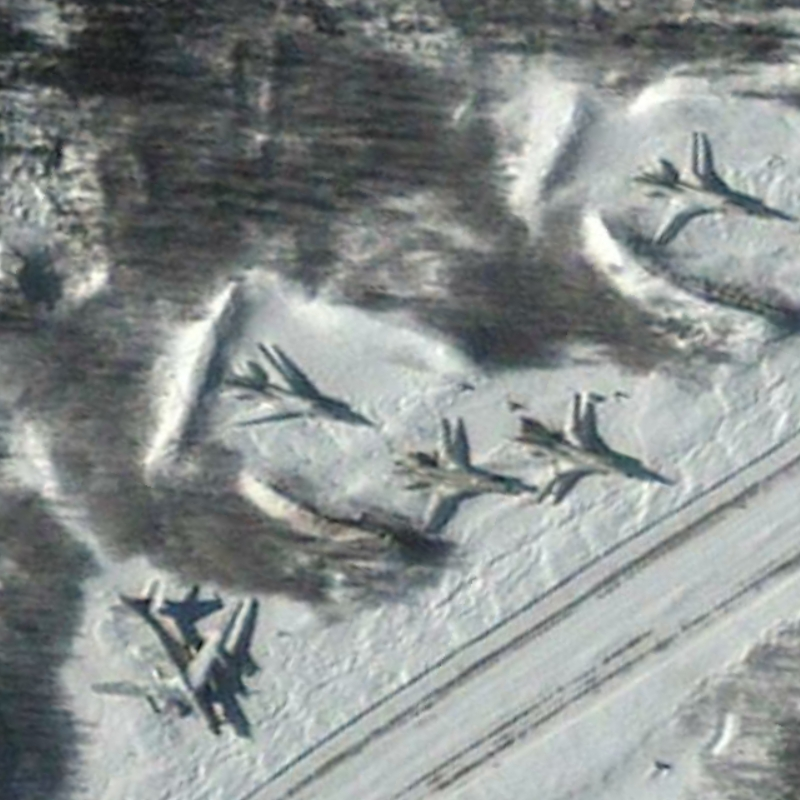A12: (627, 126, 790, 250), (387, 414, 539, 535), (502, 390, 656, 508), (215, 338, 379, 434)
A17: (87, 578, 246, 742)
